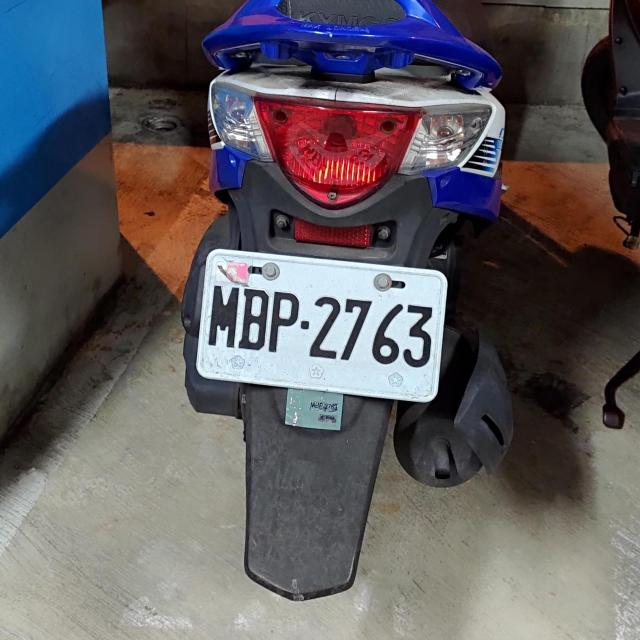W: (193, 247, 450, 401)
